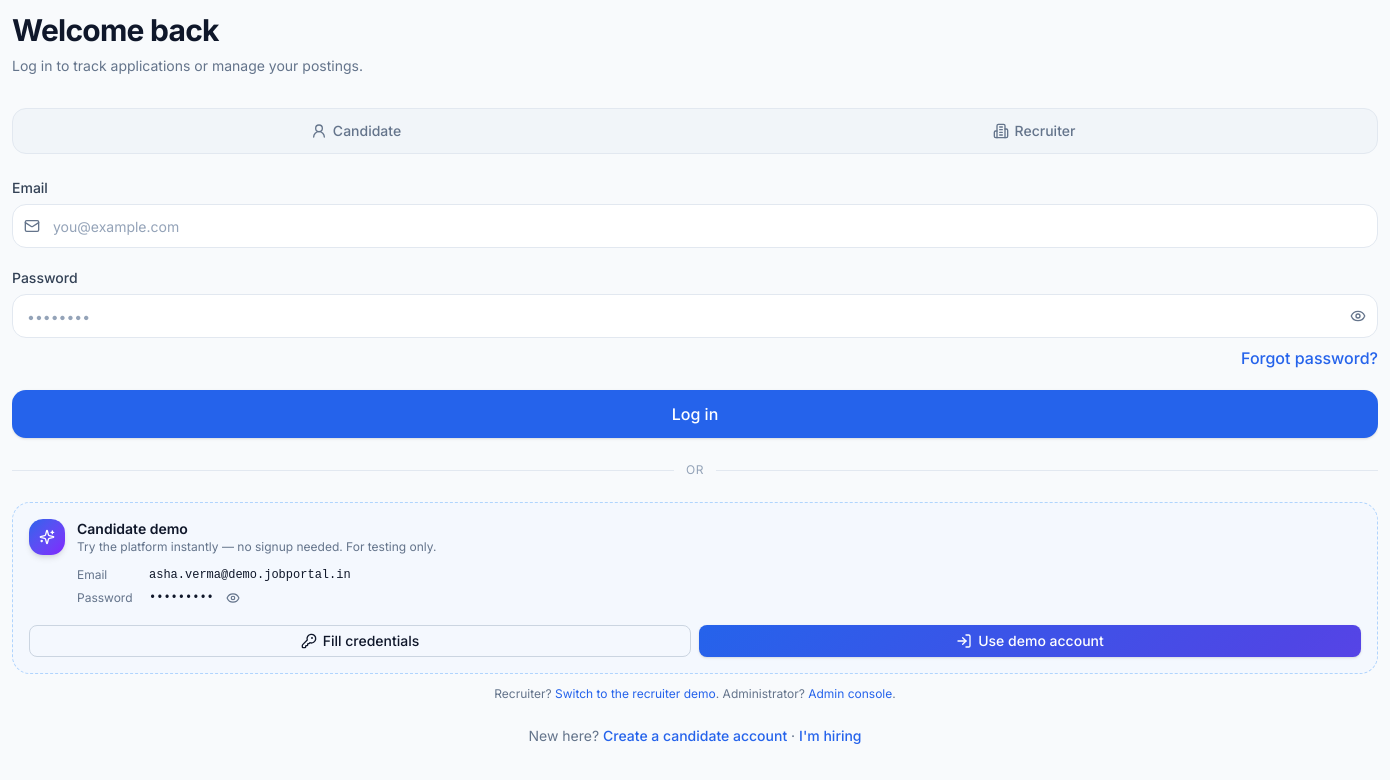
Test: LoginPage › surfaces server errors (invalid credentials, suspended)
Type "asha@example.com" into the field labelled "Email" at [695, 226], box [12,204,1378,248]
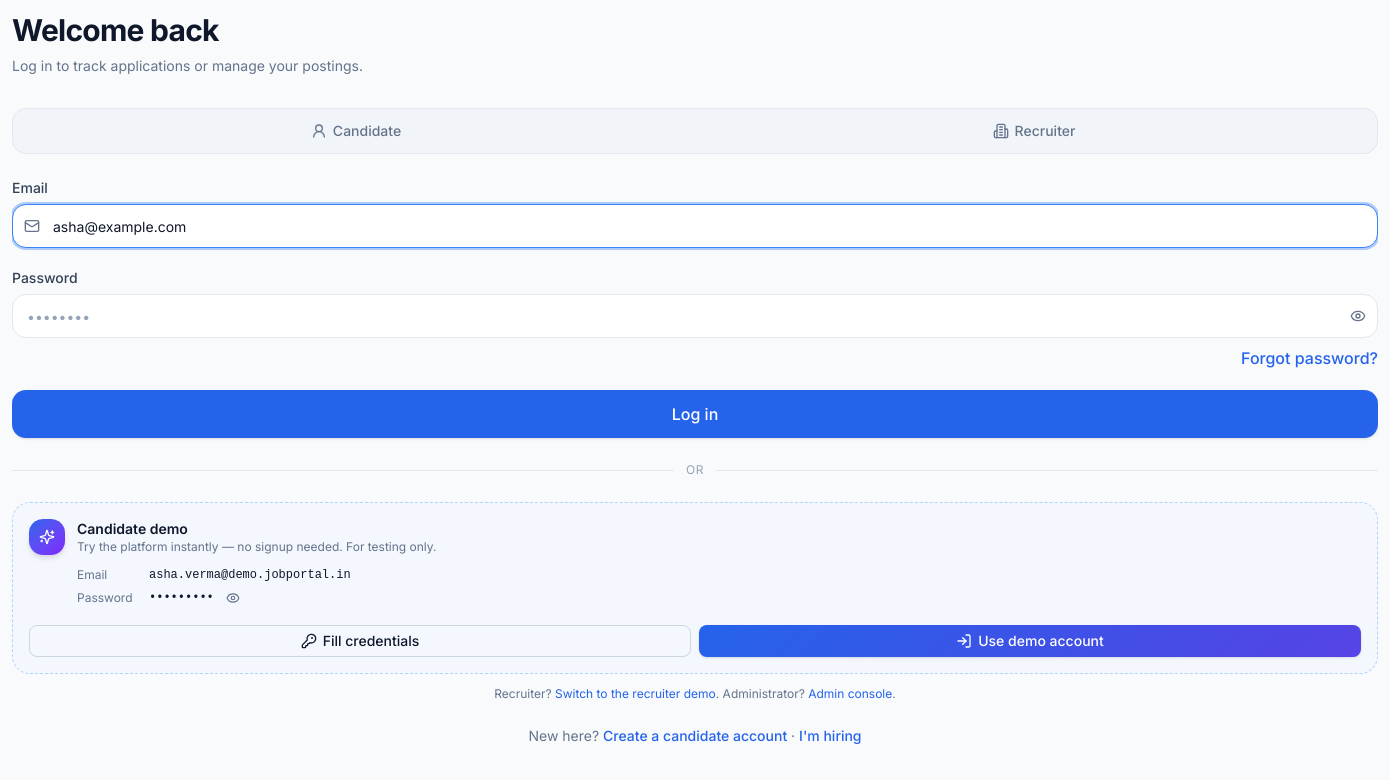
Type "wrongpass1" into the password field labelled "Password" at [695, 316], box [12,294,1378,338]
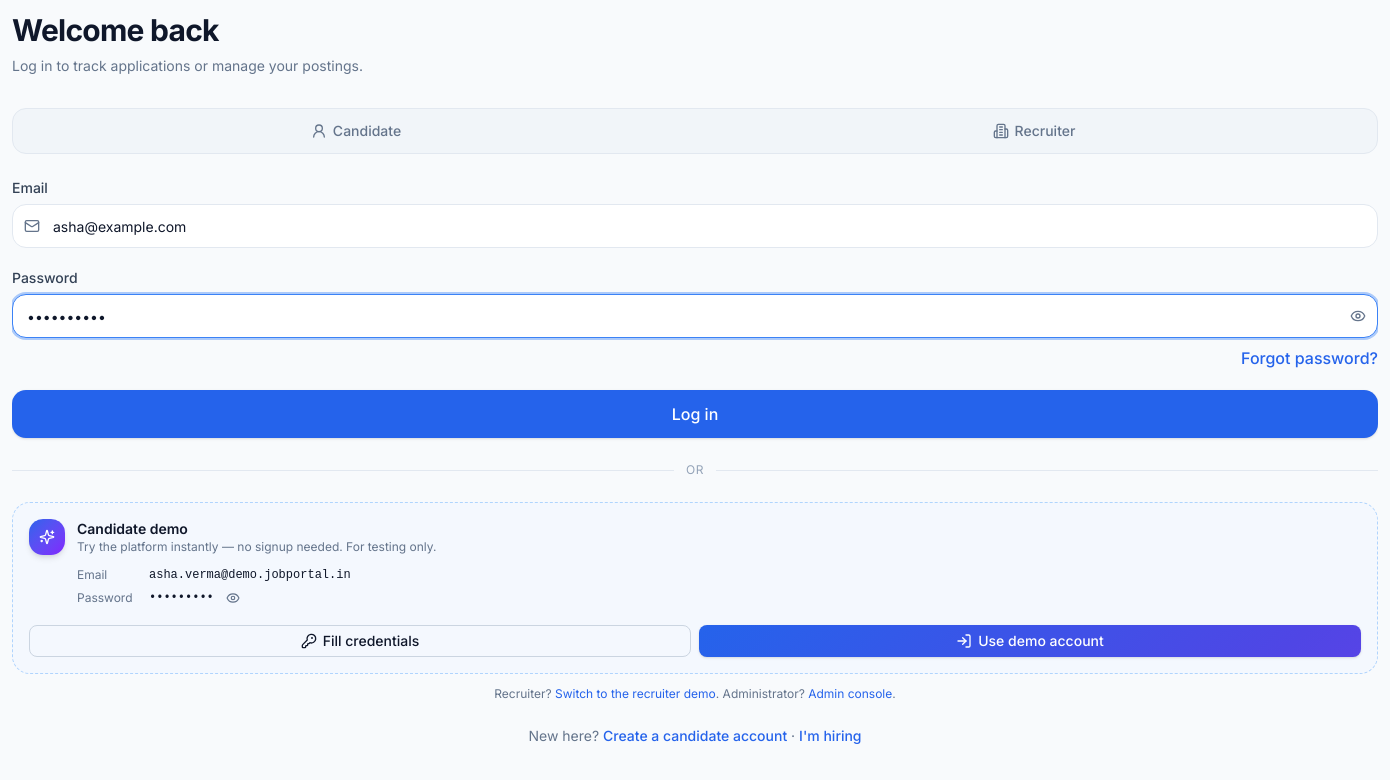
Click the button "Log in" at [695, 414], box [12,390,1378,438]
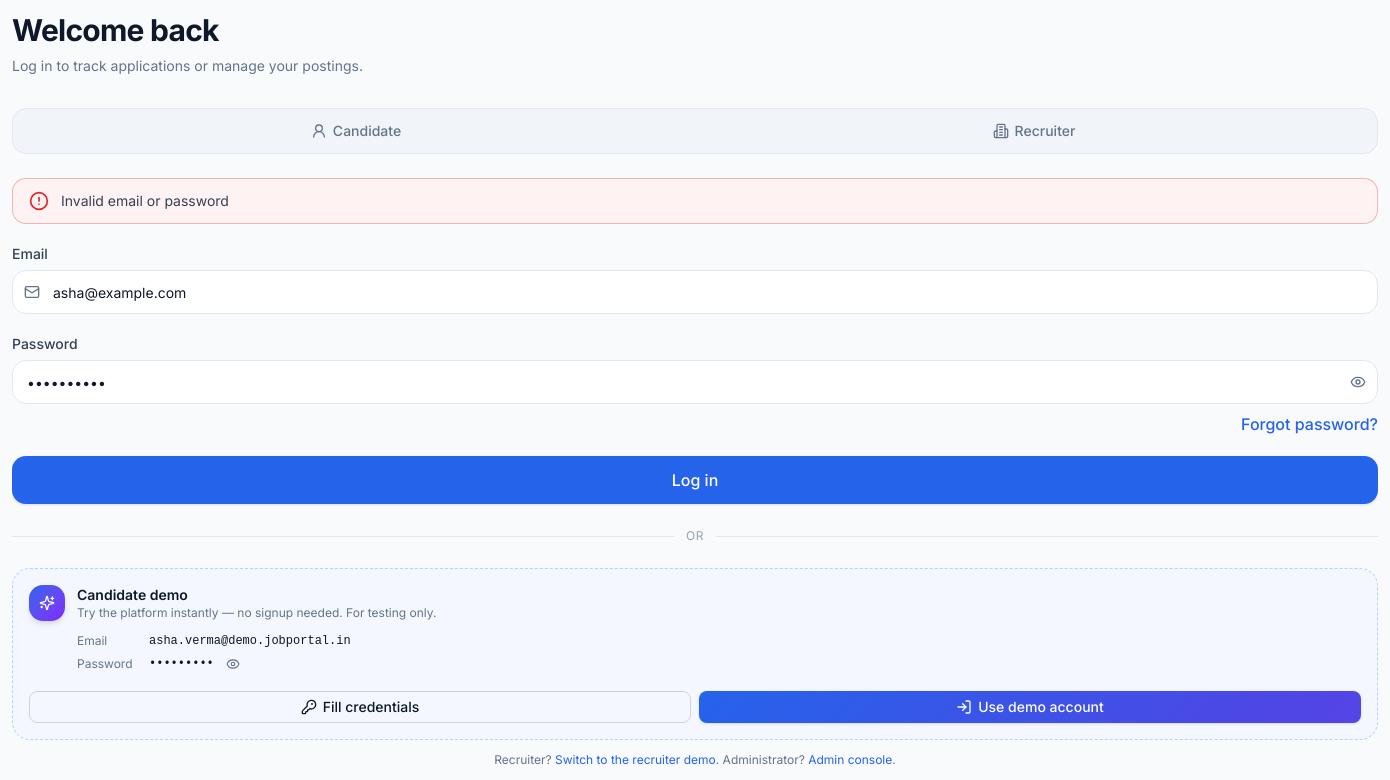
Expected: the message reads "Invalid email or password", [61,192,229,209]
